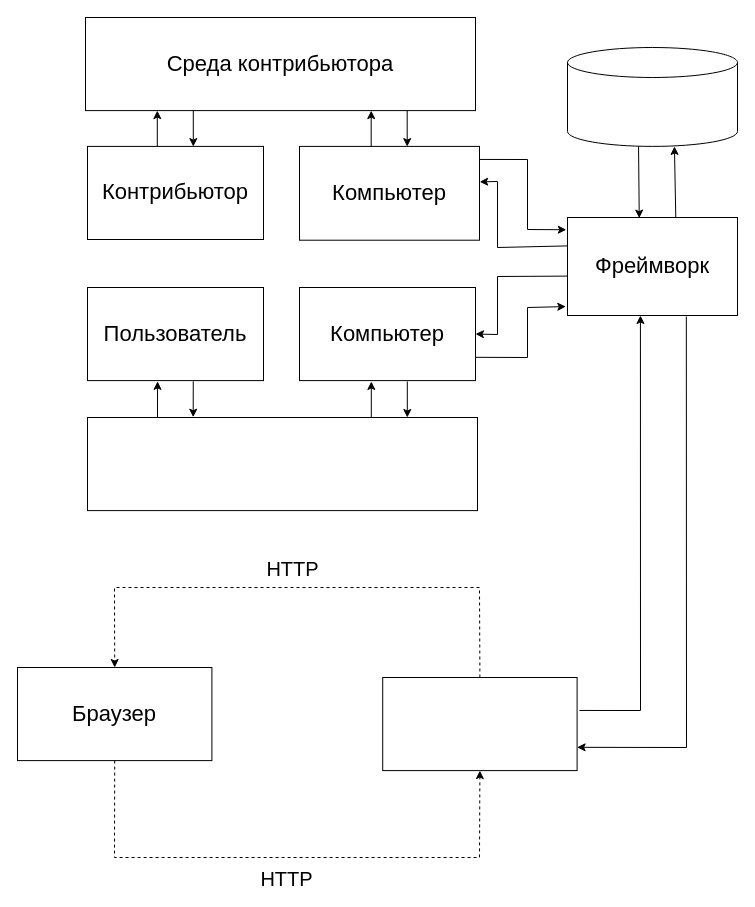
This 755x907 diagram has some shape labels left out. Here are the shapes that lost their labels. From the top down, the centre of each, then its label:
At (652,96): "Исходный код фреймворка".
At (282,463): "Среда пользователя".
At (479,723): "Драйвер симуляции браузера".
